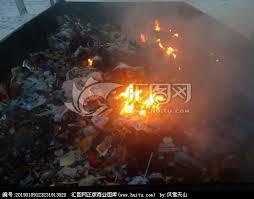fire: (113, 79, 164, 118), (138, 18, 180, 59)
